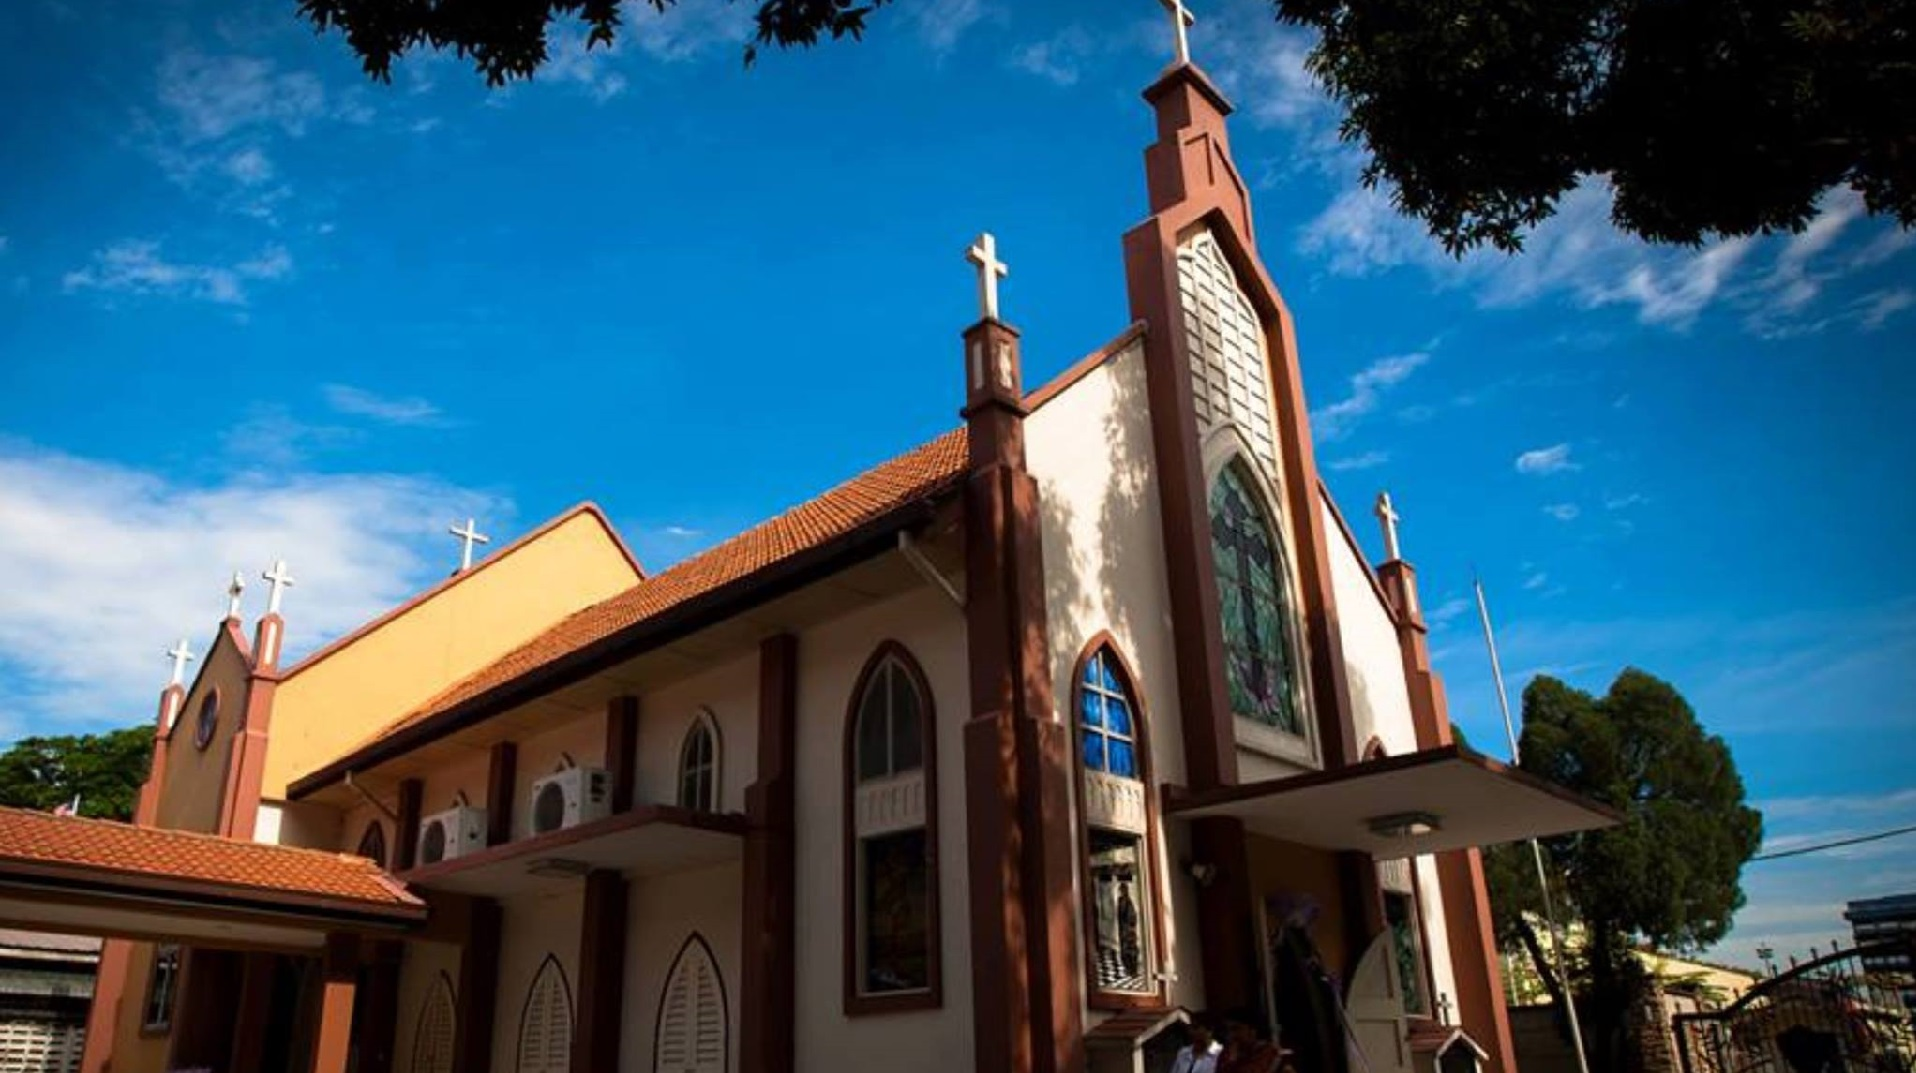Church: (137, 3, 1537, 987)
